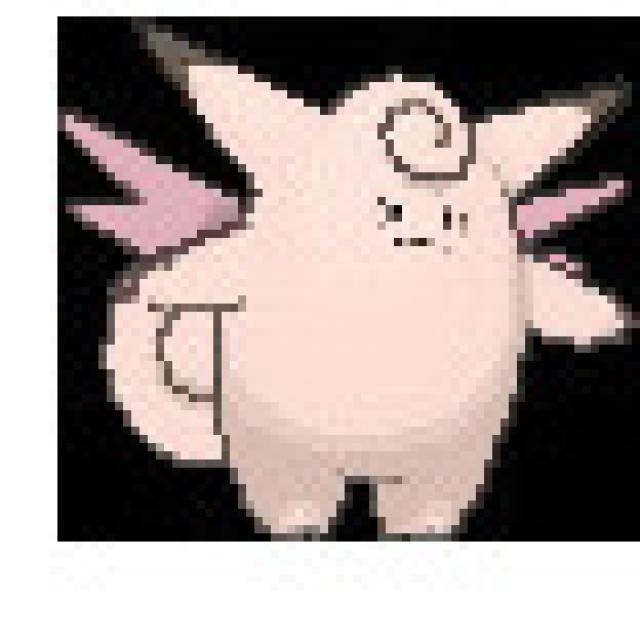Clefable: (112, 22, 631, 512)
